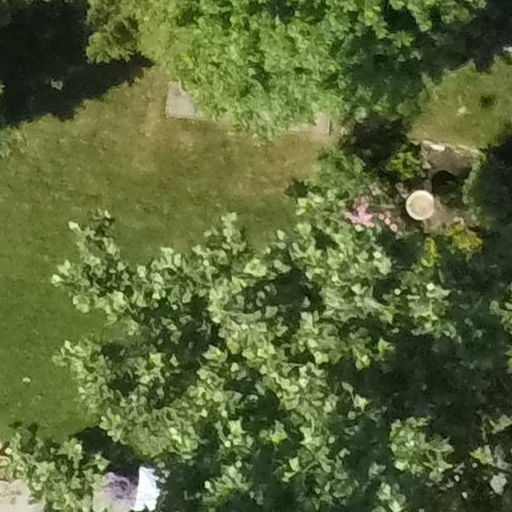container: (404, 189, 437, 233)
